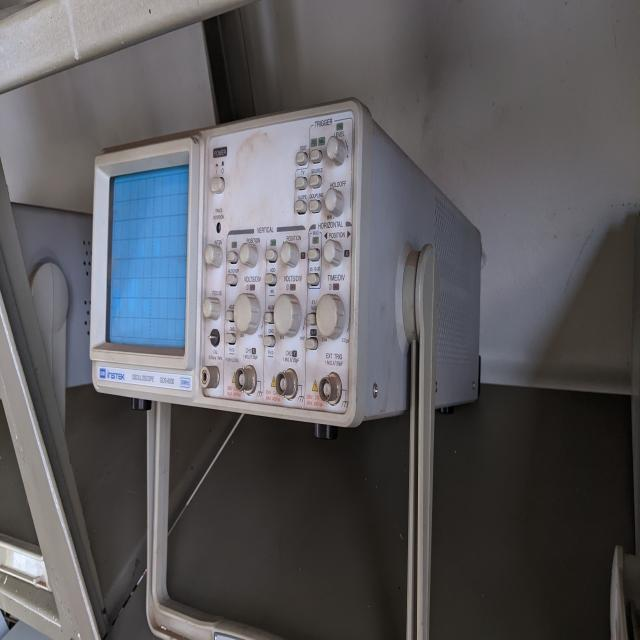Cathode Ray Oscilloscope: (76, 99, 435, 640)
